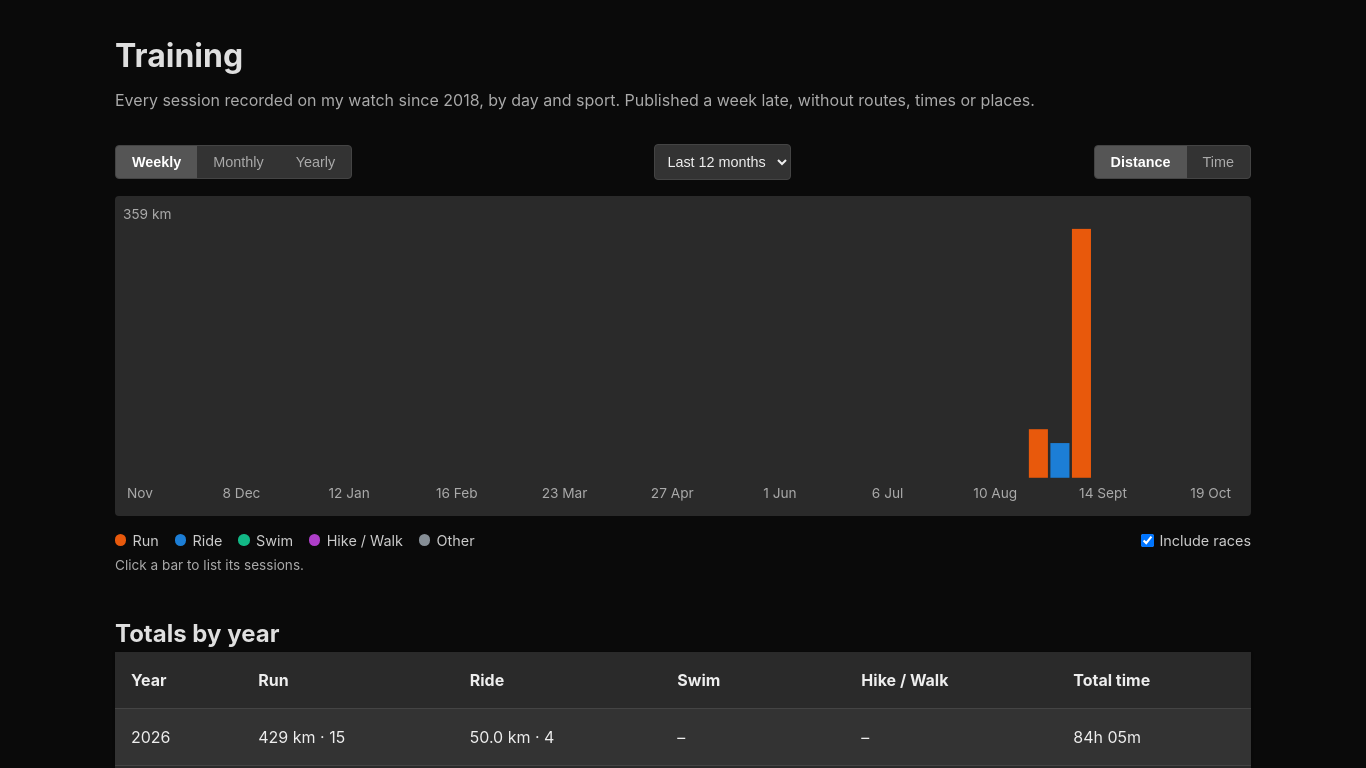
Test: Training page › switches to training-only totals and sessions when "Include races" is unticked
Click the checkbox labelled "Include races": [1147, 540] box [1141,534,1154,547]
(page scrolled)
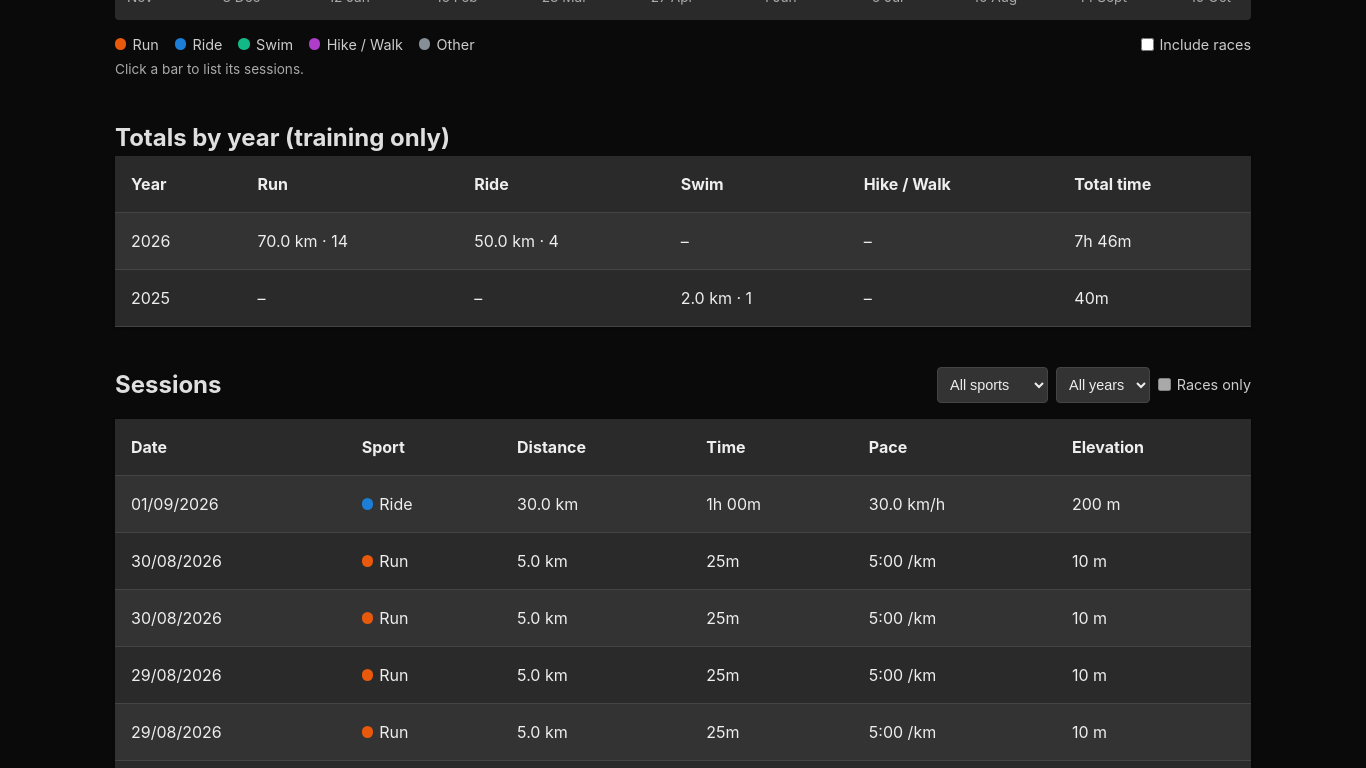
Expected: the heading "Totals by year (training only)" is shown, [115,123,450,152]
Expected: the checkbox labelled "Races only" is disabled, [1158,378,1171,391]
